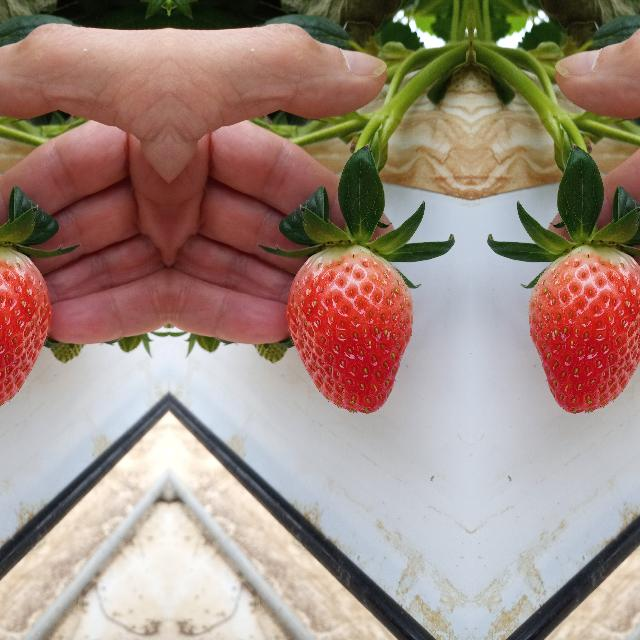Health_100: (285, 244, 413, 414), (528, 244, 640, 414), (0, 244, 51, 414)
